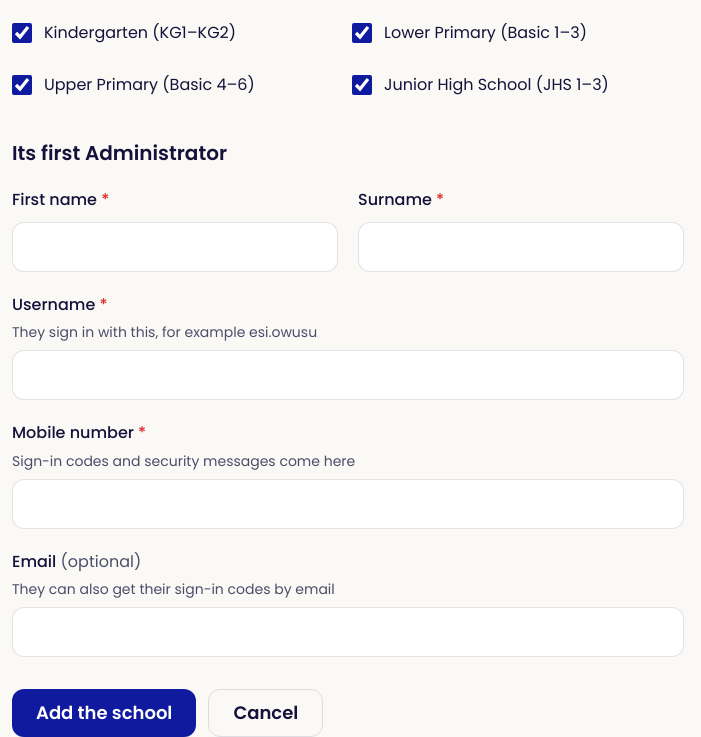
Test: add a school › asks for every field before sending anything
(page scrolled)
Step 1. Click the button "Add the school" → coordinates (104, 713), box [12, 689, 196, 736]
(page scrolled)
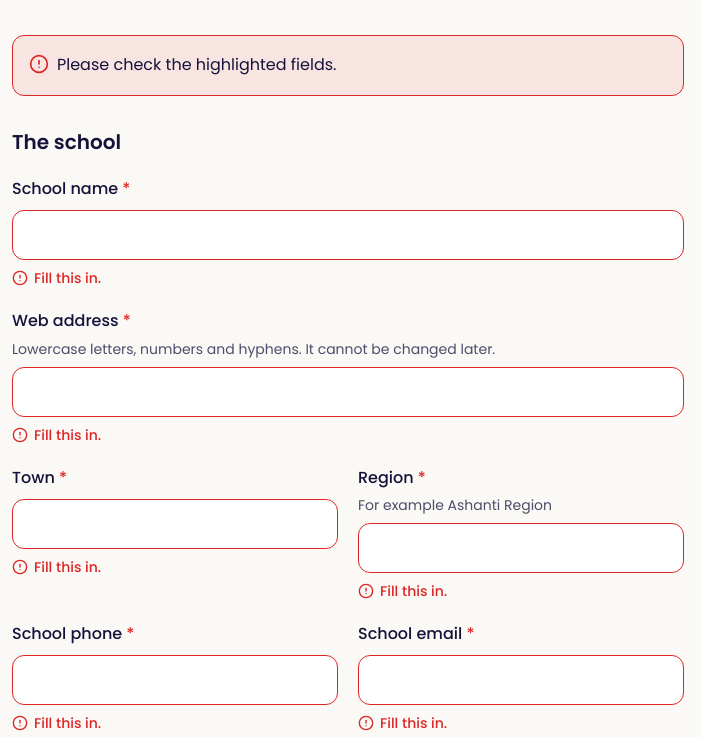
Now the message reads "Please check the highlighted fields.", box [57, 53, 336, 76]
Now the text "Fill this in." is shown 10 times
